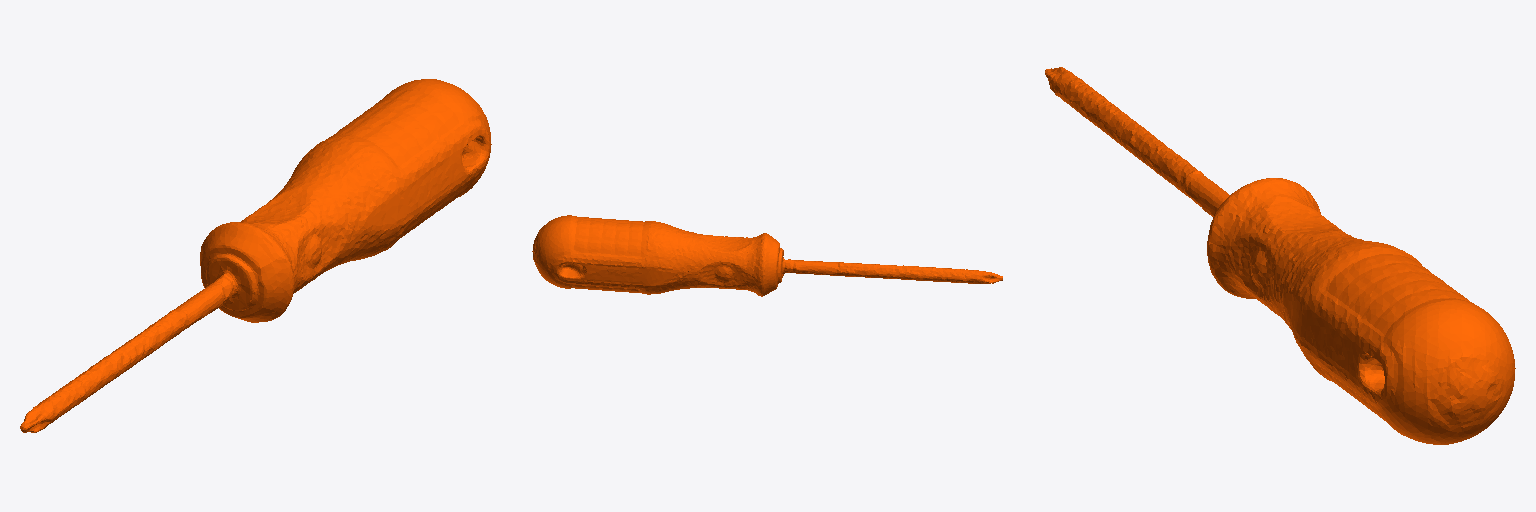
URDF robot description (043_phillips_screwdriver):
<?xml version="1.0" ?>
<robot name="043_phillips_screwdriver">
   <material name="obj_color">
      <color rgba="1.0 0.423529411765 0.0392156862745 1.0"/>
   </material>
   <link name="top">
      <inertial>
         <origin rpy="1.673491533363262e-05 0.0002129229142417462 0.000213014370798071" xyz="0.02168165123152855 0.01077200087179305 0.0005844887692836235"/>
         <mass value="0.1509307737750683"/>
         <inertia ixx="5.650420163704538e-05" ixy="-7.850770030911239e-05" ixz="-7.613715240840188e-06" iyy="0.0001735520018171954" iyz="-3.866998085540093e-06" izz="0.000212615996919209"/>
      </inertial>
      <visual>
         <origin rpy="0 0 0" xyz="0 0 0"/>
         <geometry>
            <mesh filename="top_watertight_tiny.stl" scale="1 1 1"/>
         </geometry>
         <material name="obj_color"/>
      </visual>
      <collision>
         <origin rpy="0 0 0" xyz="0 0 0"/>
         <geometry>
            <mesh filename="top_watertight_tiny.obj" scale="1 1 1"/>
         </geometry>
      </collision>
   </link>
   <link name="bottom">
      <inertial>
         <origin rpy="1.633333333199431e-08 1.633333333199431e-08 1.633333333362855e-08" xyz="0.3464080000000008 0.3464080000000008 0.3464080000000008"/>
         <mass value="0.0009800000000000017"/>
         <inertia ixx="1.633333333253906e-08" ixy="5.447480642029219e-19" ixz="5.447480642029219e-19" iyy="1.633333333253906e-08" iyz="5.447480642029219e-19" izz="1.633333333253906e-08"/>
      </inertial>
      <visual>
         <origin rpy="0 0 0" xyz="0 0 0"/>
         <geometry>
            <mesh filename="bottom_watertight_tiny.stl" scale="1 1 1"/>
         </geometry>
         <material name="obj_color"/>
      </visual>
   </link>
   <joint name="rotation" type="revolute">
      <origin xyz="0 0 0"/>
      <axis xyz="0 0 -1"/>
      <parent link="bottom"/>
      <child link="top"/>
      <dynamics damping="1.0" friction="1.0"/>
      <limit effort="0.1" velocity="0.1" lower="0" upper="0.001"/>
   </joint>
</robot>

--- Facts derived from the render (not from the file) ---
The picture shows the robot from 3 angles, left to right: view 1: azimuth 30°, elevation 25°; view 2: azimuth 150°, elevation 25°; view 3: azimuth 270°, elevation 25°; orthographic projection.
Model 043_phillips_screwdriver with 2 links and 1 joints (1 revolute), rooted at bottom, posed all joints at 0.
Visible links, largest first — view 1: top; view 2: top; view 3: top.
Link boxes in pixels (box(x1,y1,x2,y2)): top: box(20, 79, 491, 432); top: box(532, 215, 1002, 296); top: box(1045, 67, 1515, 444).
Bounding box of the posed robot: 0.1949 × 0.107 × 0.0355 m (x, y, z).
1 mesh visuals loaded from 2 distinct referenced files (1 binary STL); not drawn: 1 (reference not matched to a file when rendering).
